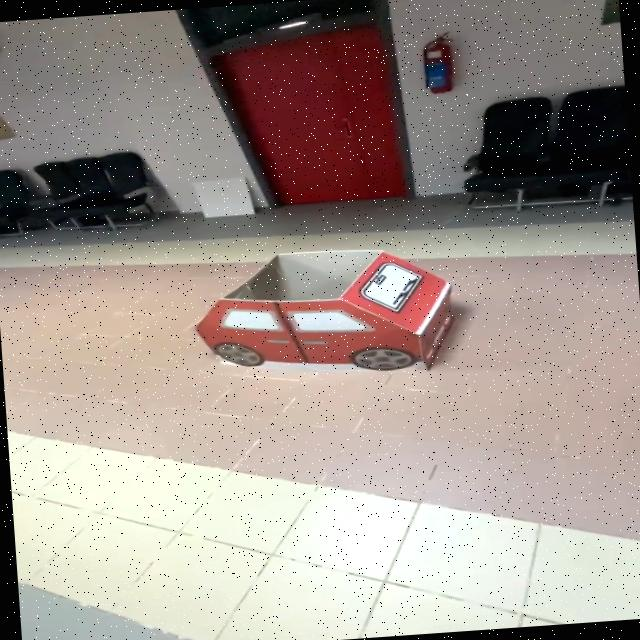red_car: (135, 221, 516, 437)
